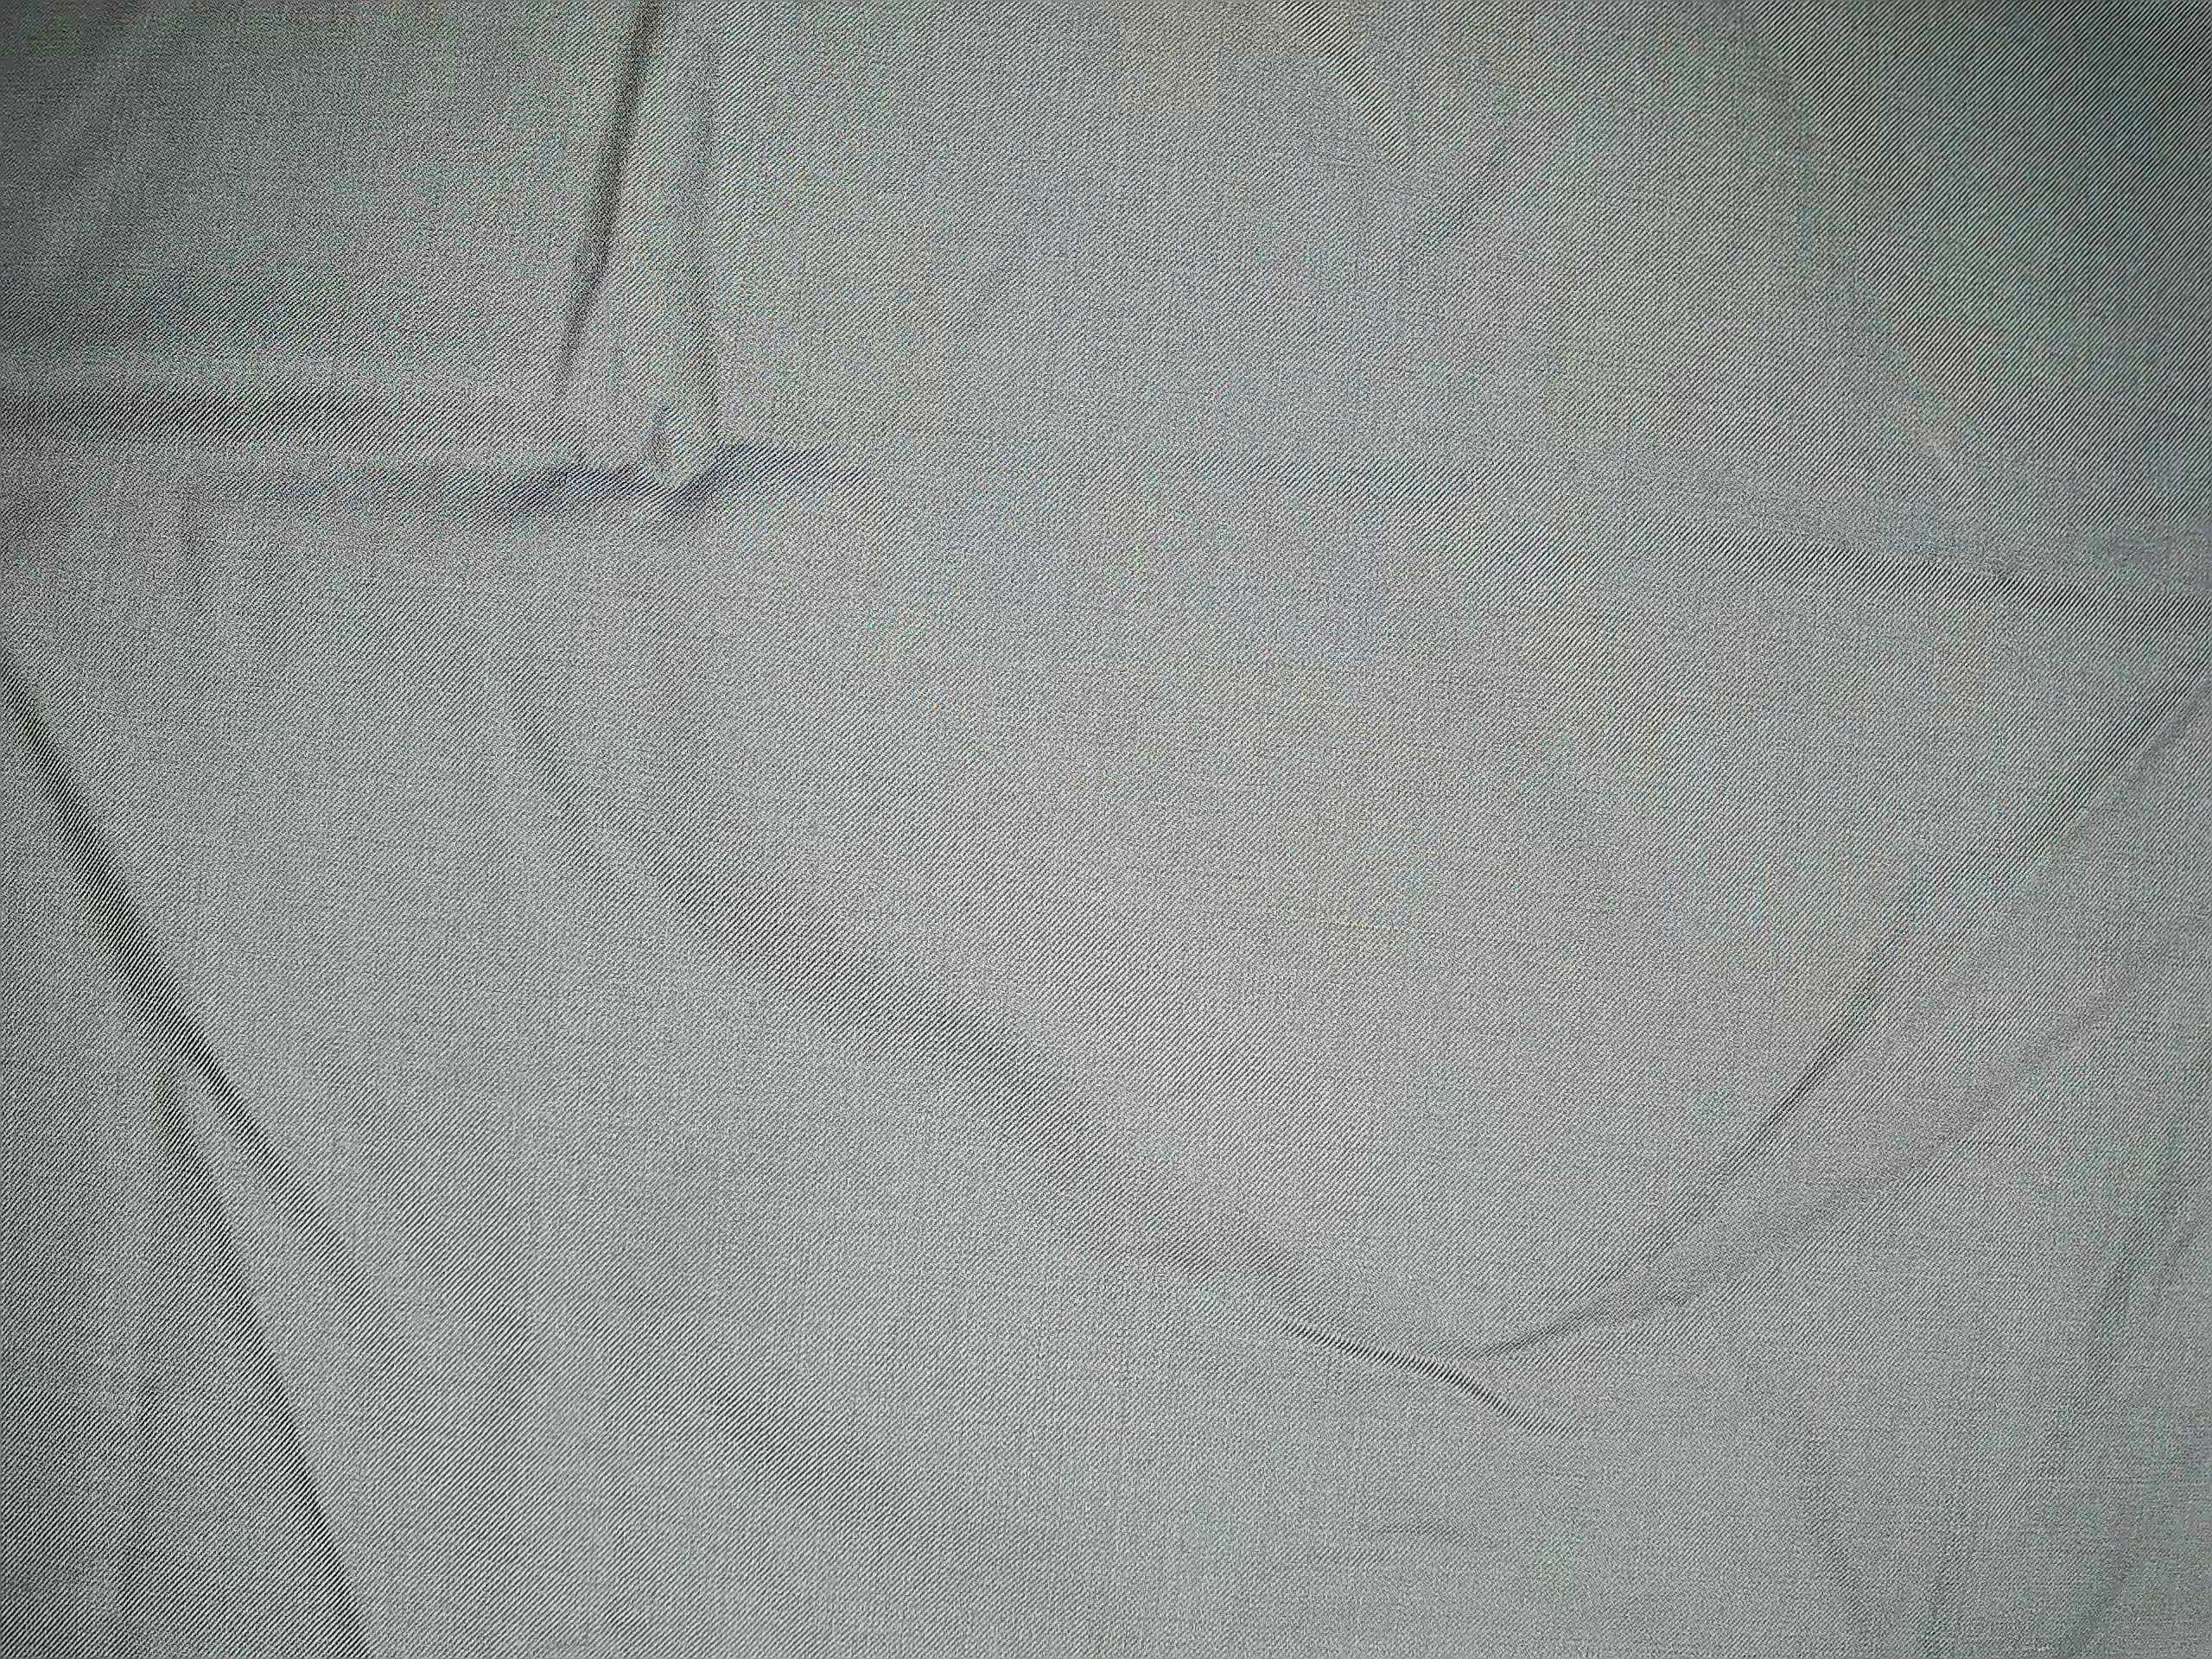others: (1231, 887, 1606, 964)
